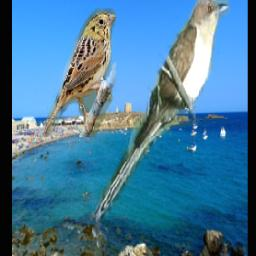Cuckoo: (90, 0, 232, 231)
Sparrow: (39, 8, 117, 137)
